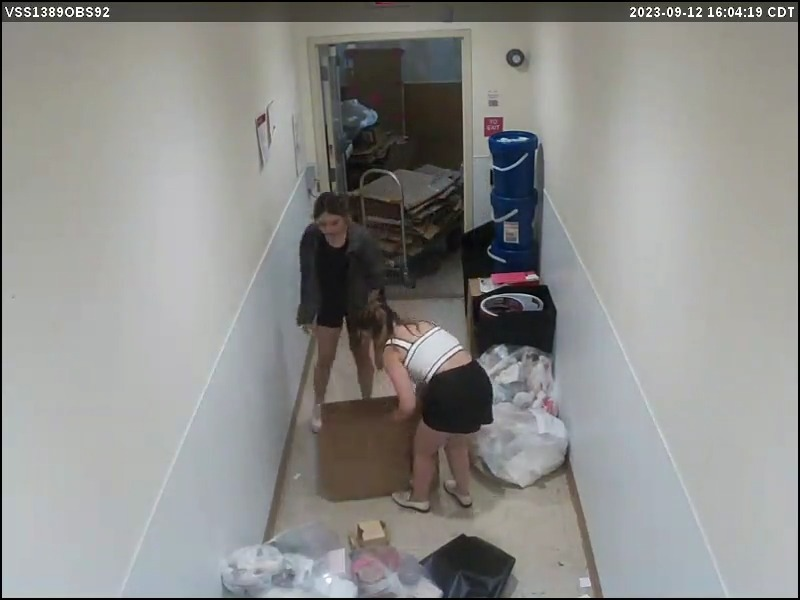No-gloves: (297, 309, 319, 339)
